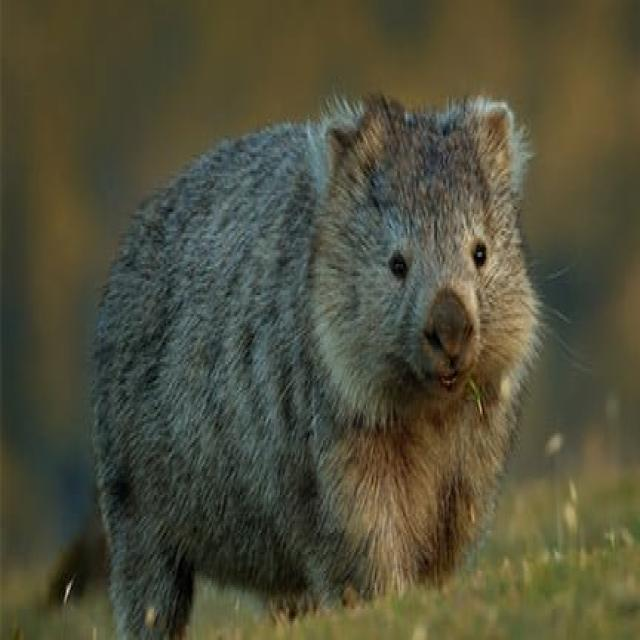Wombat: (74, 78, 548, 639)
